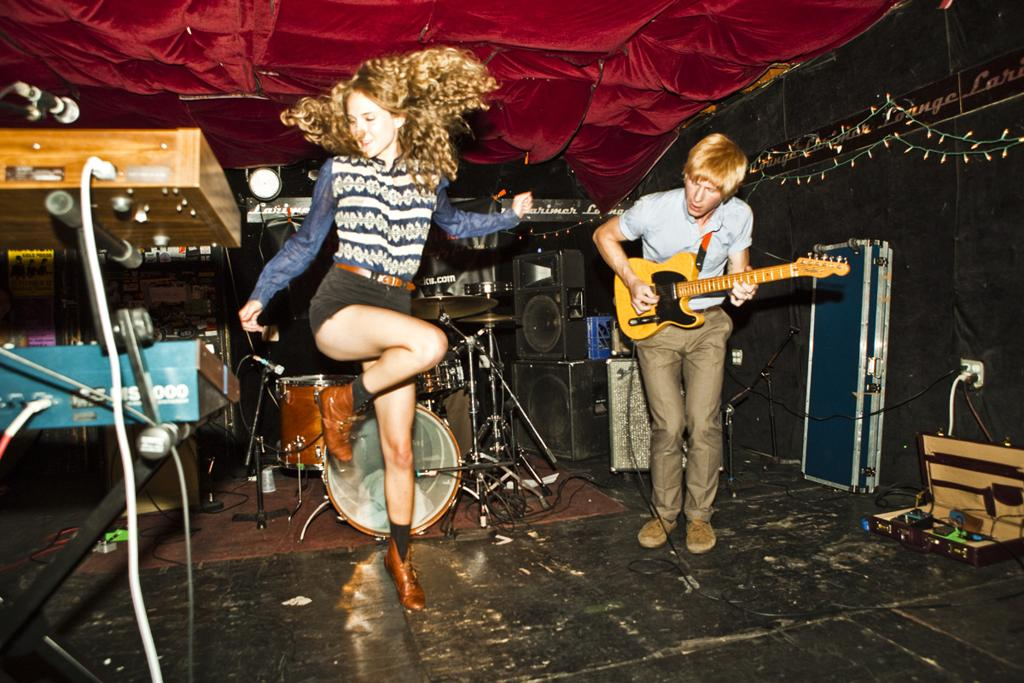face: (346, 93, 393, 158), (685, 169, 721, 217)
